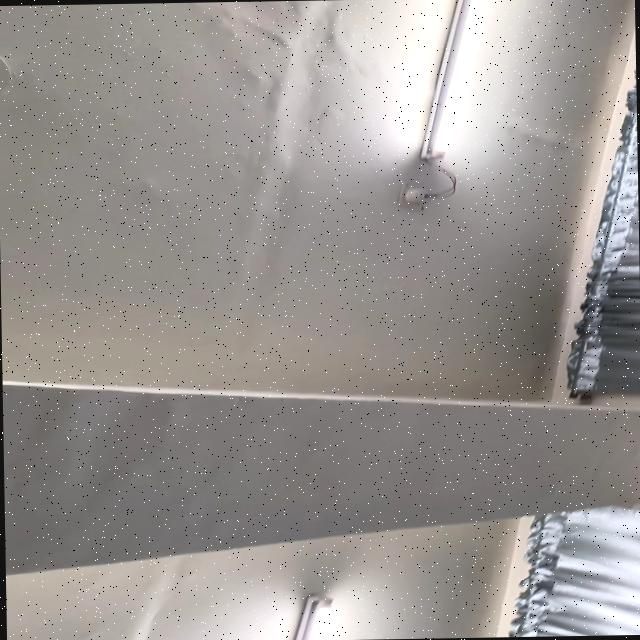Light: (398, 0, 483, 209), (293, 594, 331, 640)
